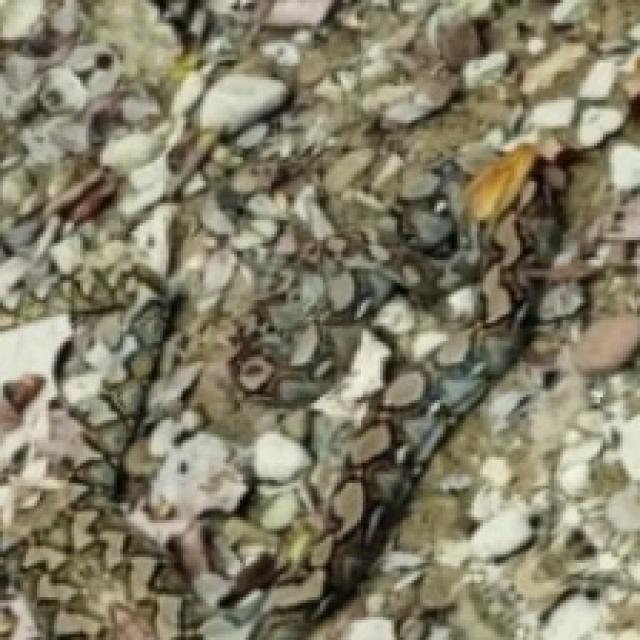reticulated python: (235, 148, 536, 640), (0, 240, 251, 639)
